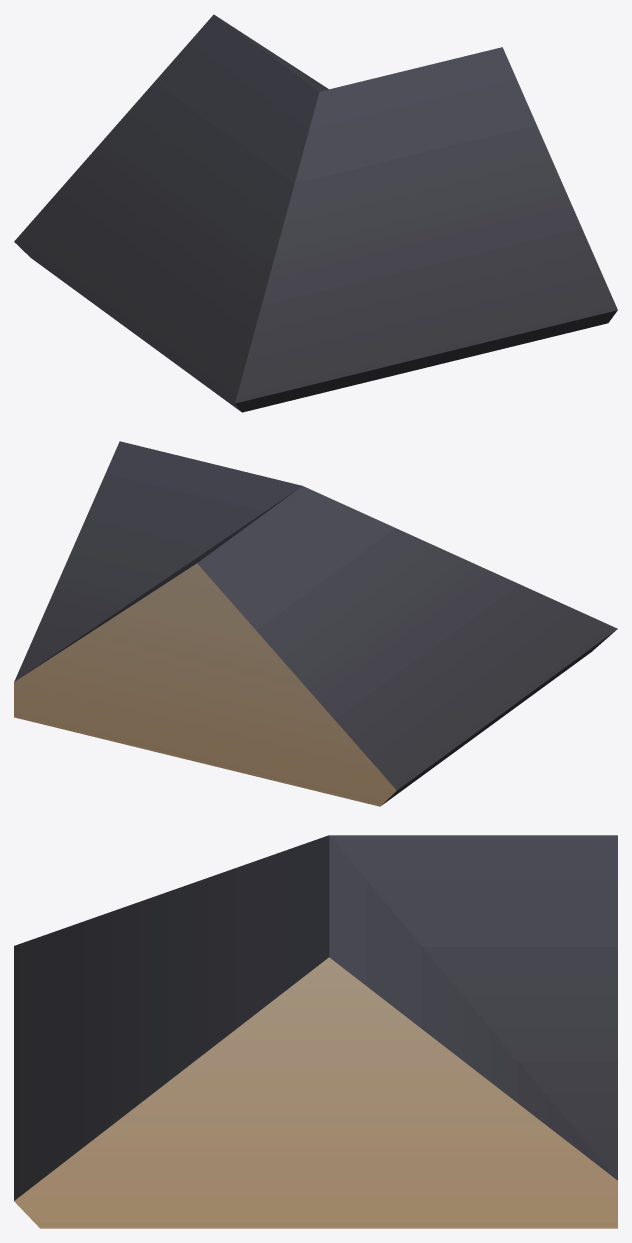
File: roof-gable-corner.glb
3 views of the same model, one above another, from view 1: azimuth 30°, elevation 25°; view 2: azimuth 150°, elevation 25°; view 3: azimuth 270°, elevation 25° (orthographic). The views are drawn at different scales.
Parts seen in each view (by area): view 1: roof-gable-corner; view 2: roof-gable-corner; view 3: roof-gable-corner.
Part boxes in pixels (box(x1,y1,x2,y2)): roof-gable-corner: box(14, 14, 617, 412); roof-gable-corner: box(14, 441, 617, 806); roof-gable-corner: box(14, 835, 617, 1228).
Size of the model in its own units: 1.05 by 0.5188 by 1.05.
Materials: 1 (1 with a texture image).
